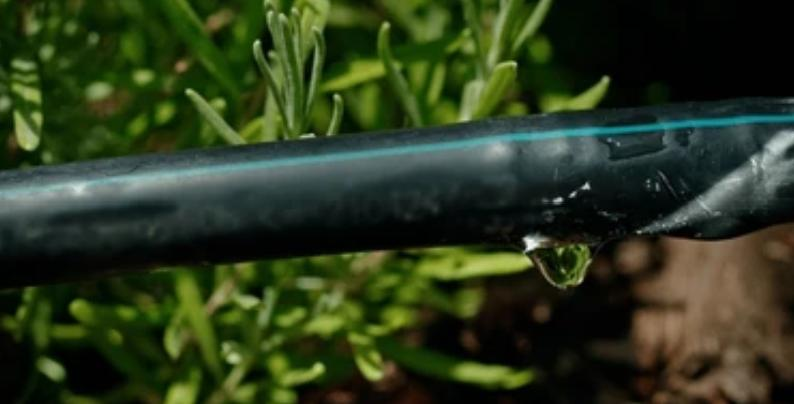water drop: (527, 238, 602, 290)
